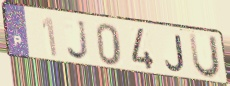0: (94, 22, 123, 67)
1: (41, 16, 59, 58)
4: (130, 27, 156, 72)
J: (66, 19, 91, 63), (163, 34, 186, 73)
U: (187, 32, 222, 81)
